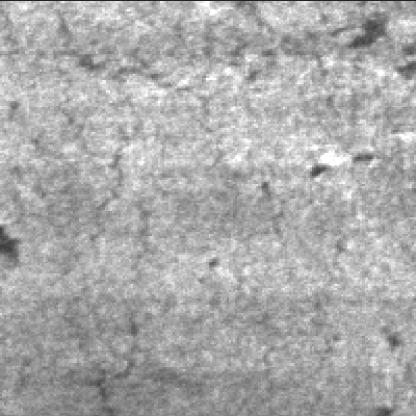crazing: (48, 85, 146, 383), (23, 0, 331, 79)
